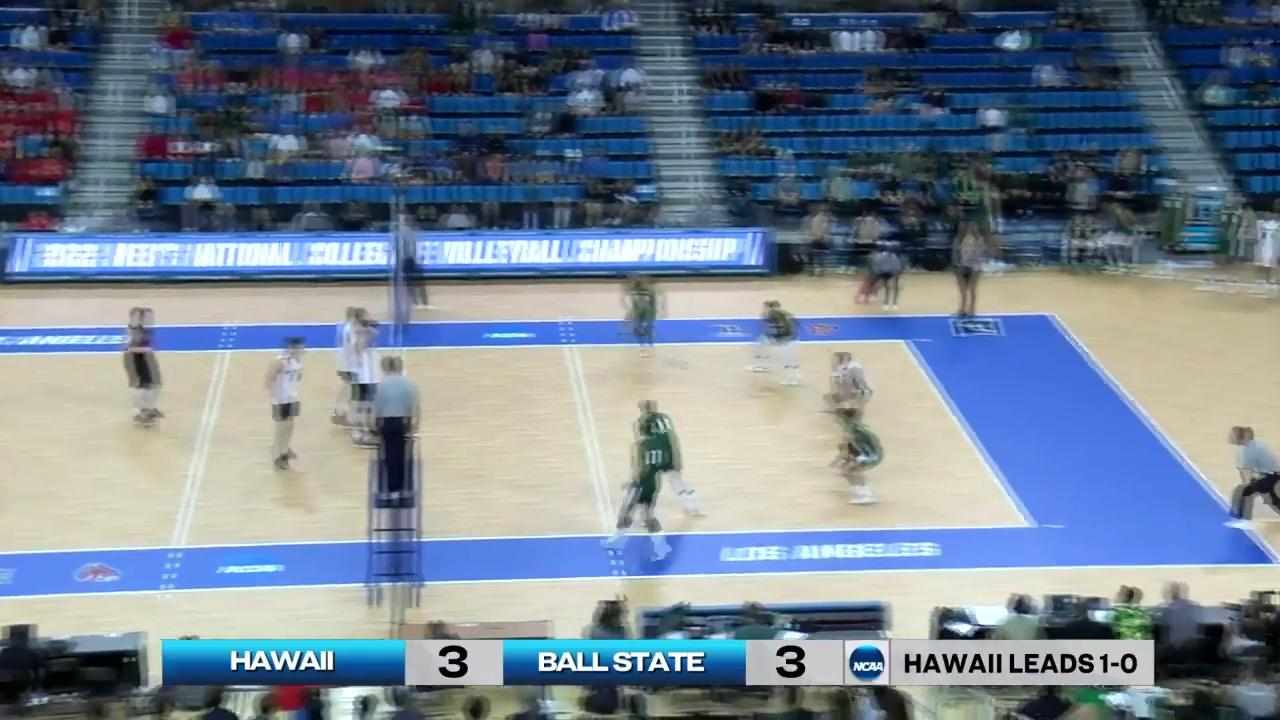player: (631, 399, 701, 522), (611, 424, 670, 561), (265, 333, 309, 471), (829, 407, 884, 511), (330, 303, 373, 435), (121, 306, 164, 423), (353, 318, 389, 451), (747, 299, 796, 388), (824, 351, 876, 432), (624, 275, 660, 359)
refree: (369, 356, 419, 499), (1230, 428, 1280, 530), (391, 217, 431, 309), (856, 244, 901, 307)
